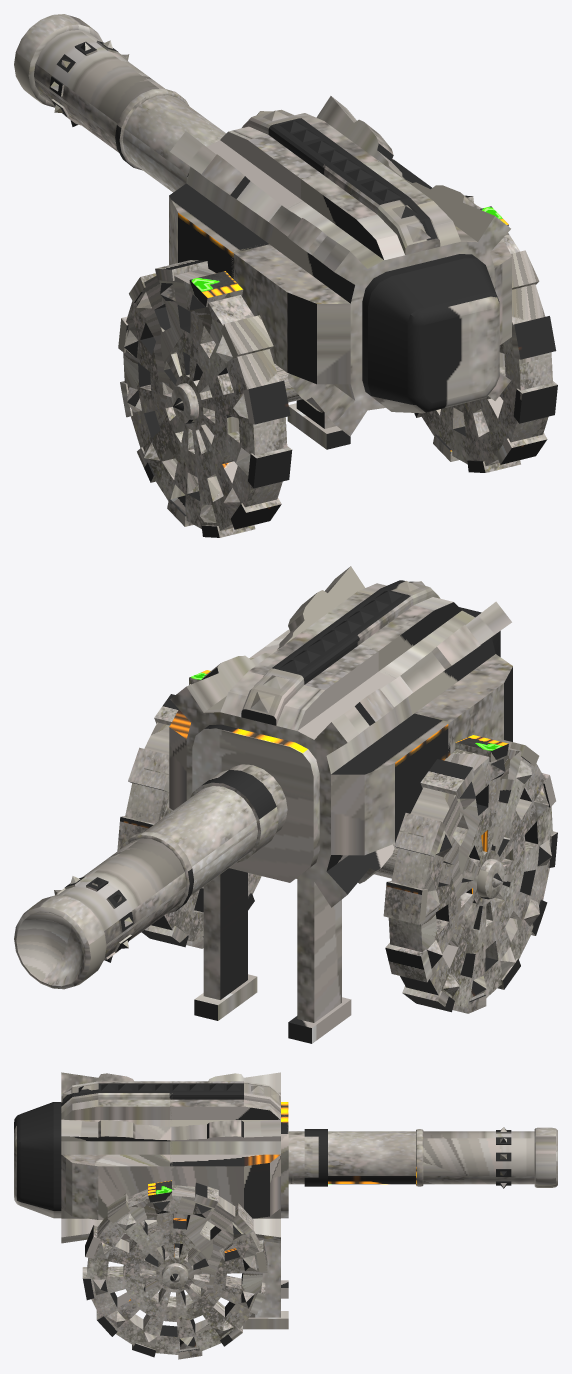
Rendered from cañon tier 2.fbx.
3 views of the same model, one above another, from view 1: azimuth 30°, elevation 25°; view 2: azimuth 150°, elevation 25°; view 3: azimuth 270°, elevation 25° (orthographic). The views are drawn at different scales.
Parts seen in each view (by area): view 1: Cube.054, Cylinder.022, Cylinder.021; view 2: Cube.054, Cylinder.022, Cylinder.021; view 3: Cube.054, Cylinder.022, Cylinder.021.
Part boxes in pixels (x1,y1,x2,y2): Cube.054: (169,96,511,449); Cylinder.022: (118,195,557,537); Cylinder.021: (14,14,225,192); Cube.054: (169,566,512,1043); Cylinder.022: (117,670,557,1013); Cylinder.021: (14,764,287,989); Cube.054: (14,1072,288,1329); Cylinder.022: (82,1180,267,1359); Cylinder.021: (288,1127,557,1188).
Bounding box in the file's own units: 1332 × 1308 × 2844.
